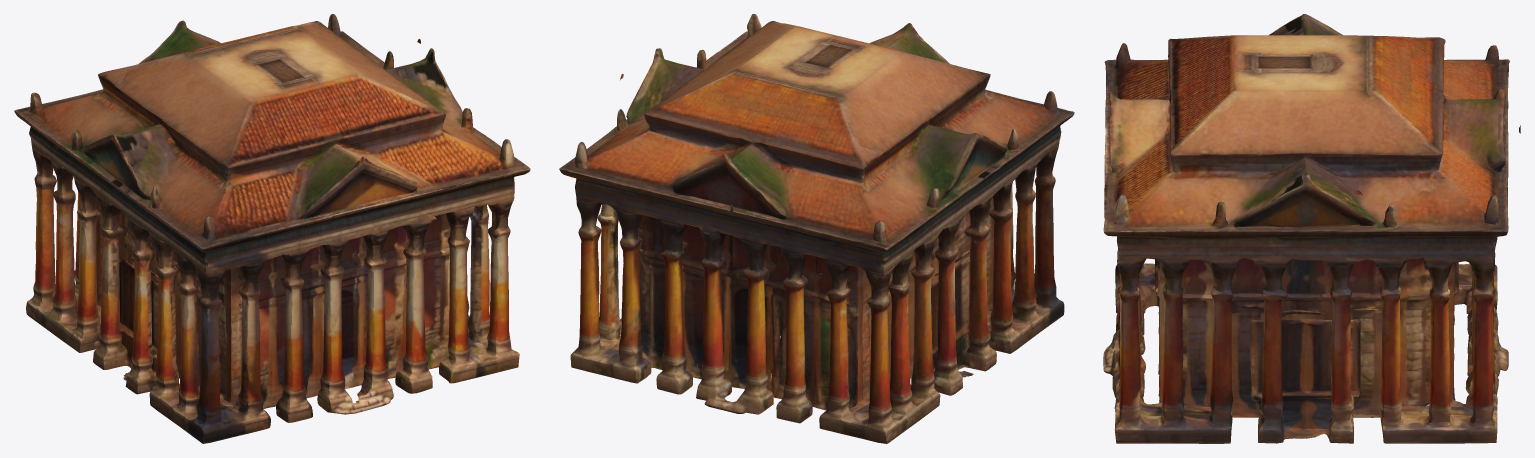
Rendered from temple__roman-columns_roman.glb.
3 renders of one model, left to right at view 1: azimuth 30°, elevation 25°; view 2: azimuth 150°, elevation 25°; view 3: azimuth 270°, elevation 25°, orthographic. The views are drawn at different scales.
Bounding box in the file's own units: 2.04 × 1.62 × 2.05.
1 material, 1 textured.
